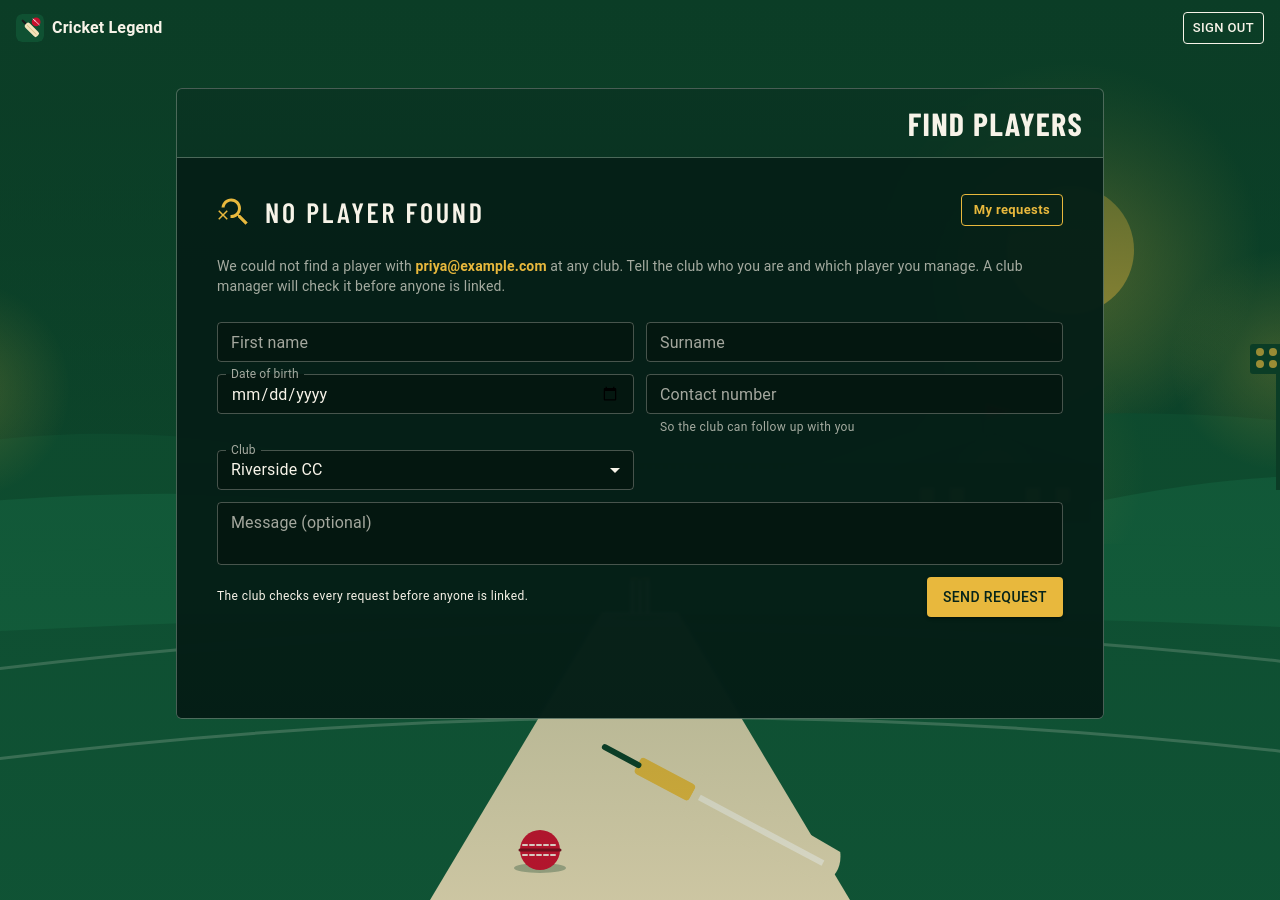
Test case: FindYourPlayersPage › No player found › shows the request form with a required contact number and full date of birth, and sends the request
Expected: the heading "No player found" is shown, [265, 197, 485, 227]
Expected: the element that starts with "We could not find a player with" is shown, [217, 256, 1063, 296]
Click the button "Send request".
click(995, 597)  # box [927, 577, 1063, 617]
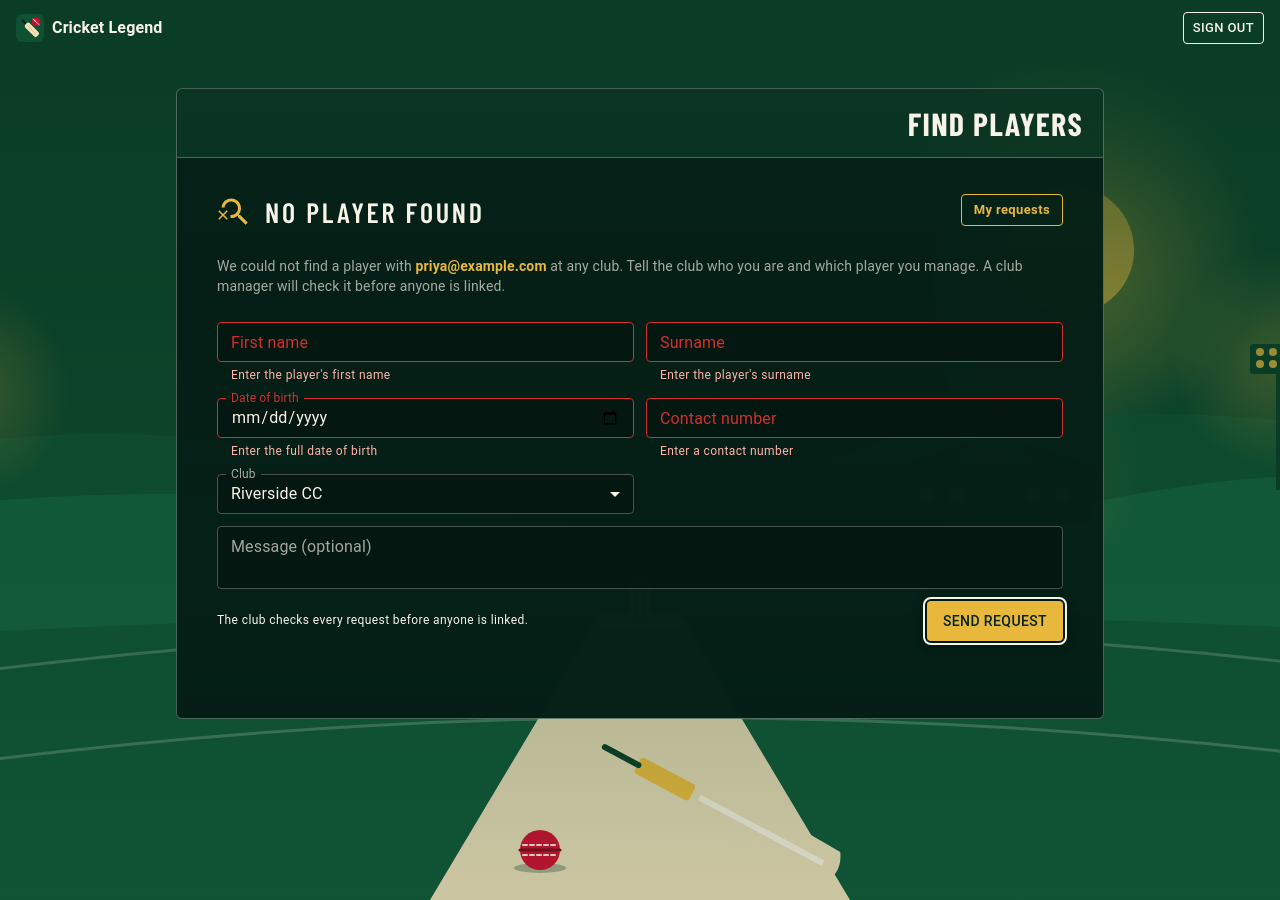
Now the text "Enter a contact number" is shown, box [660, 444, 793, 458]
Now the text "Enter the full date of birth" is shown, box [231, 444, 378, 458]
Type "Aman" into the field labelled "First name".
click(426, 342); type("Aman")  # box [217, 322, 634, 362]
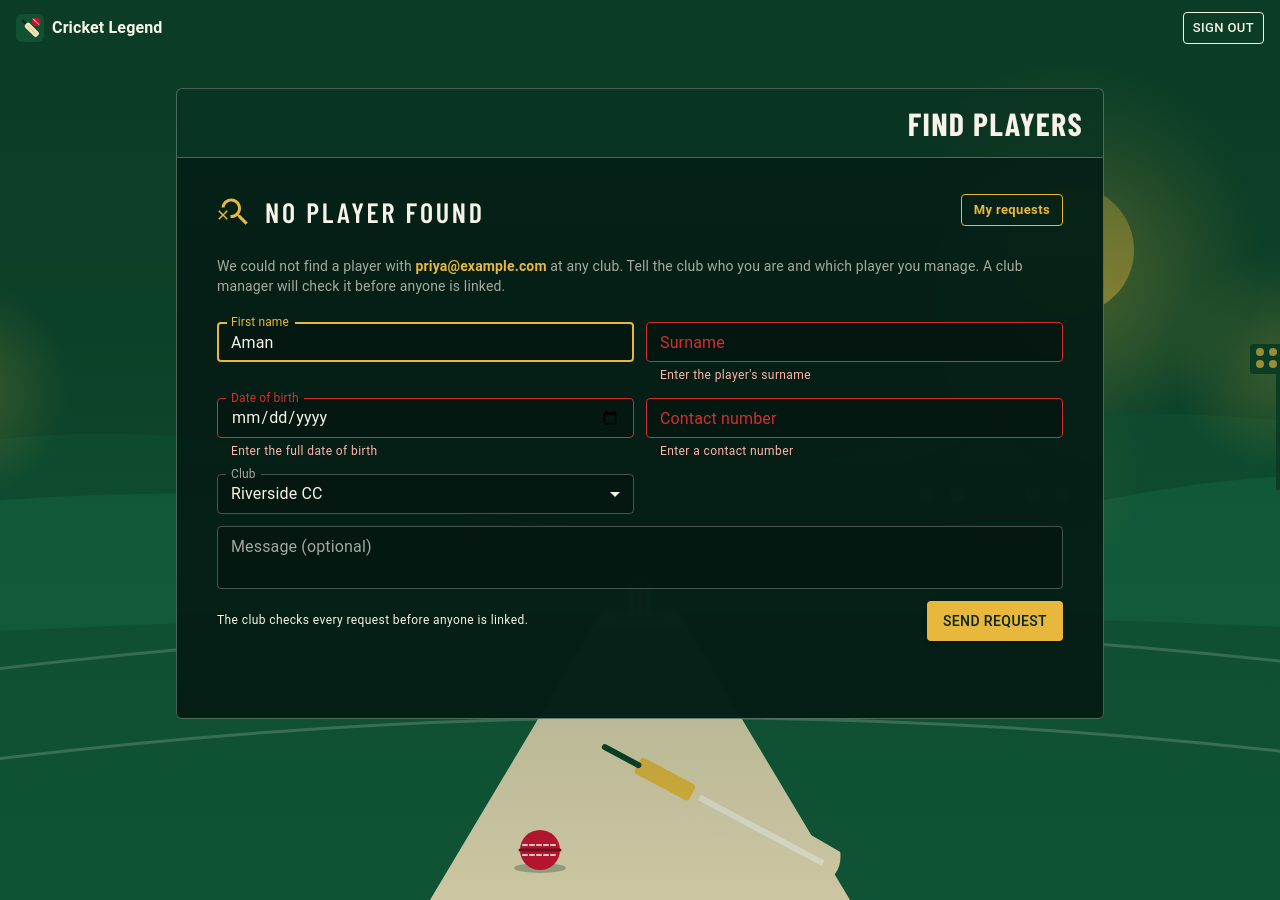
Type "Naidoo" into the field labelled "Surname".
click(854, 342); type("Naidoo")  # box [646, 322, 1063, 362]
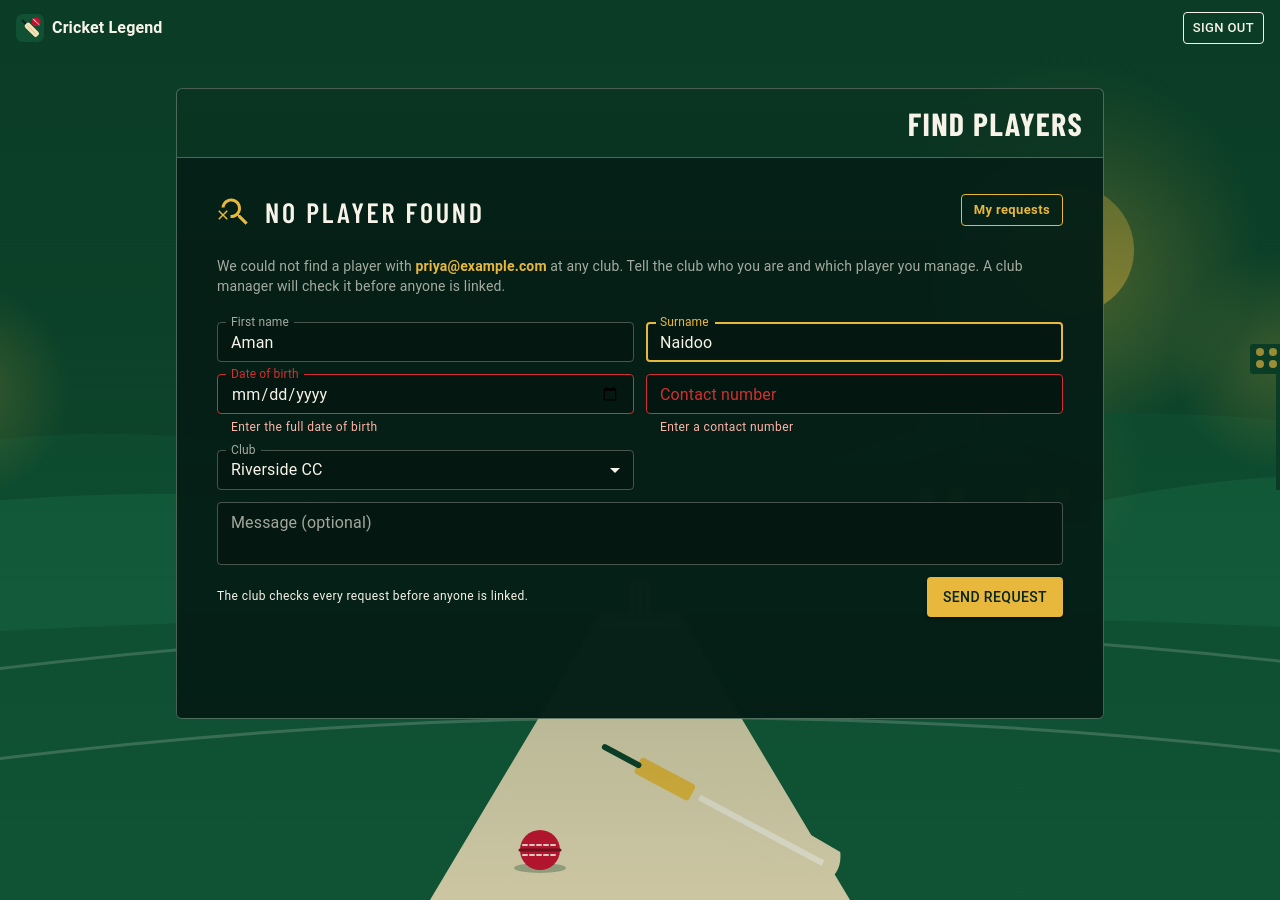
Type "2012-03-04" into the date field labelled "Date of birth".
click(426, 394); type("2012-03-04")  # box [217, 374, 634, 414]
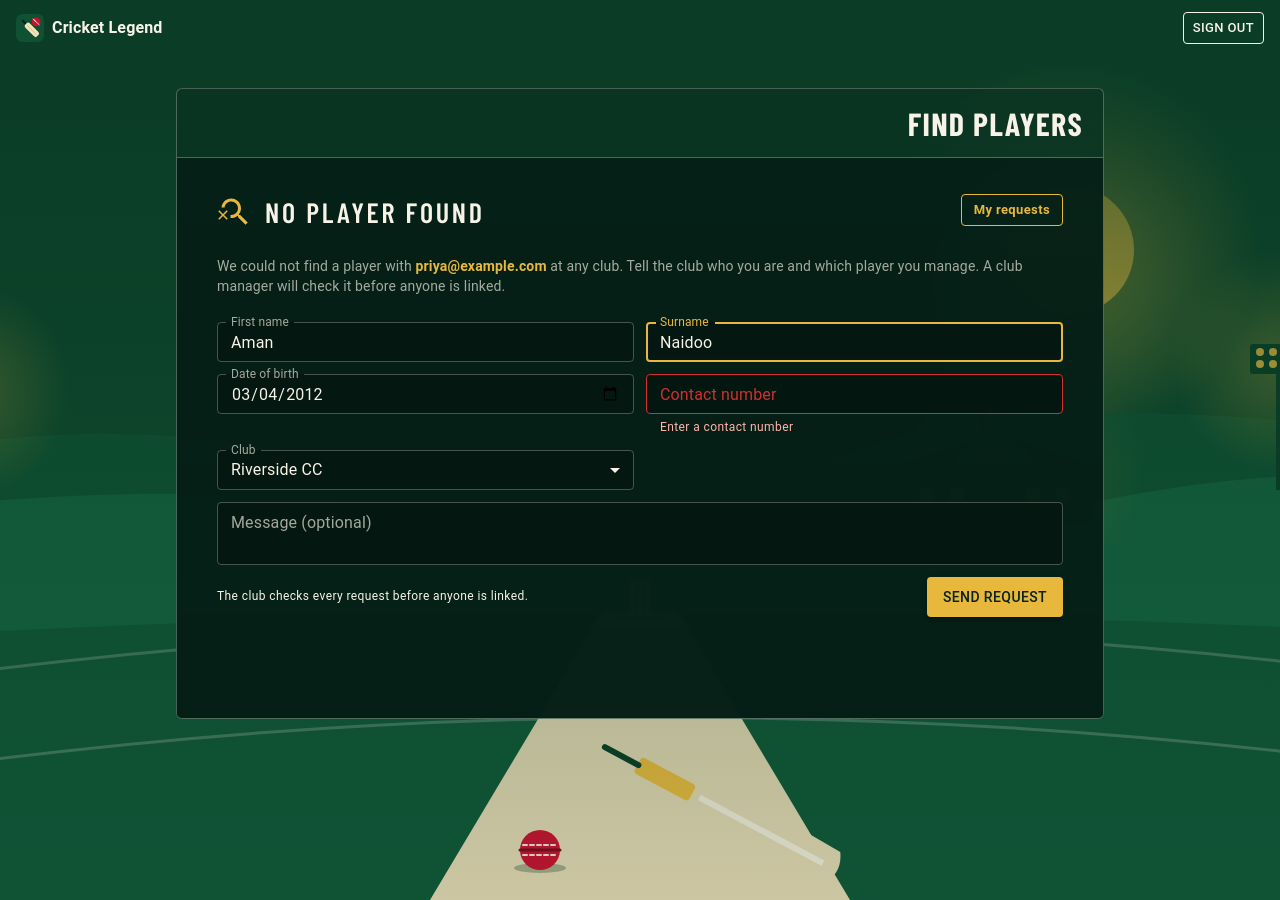
Type "082 555 0100" into the field labelled "Contact number".
click(854, 394); type("082 555 0100")  # box [646, 374, 1063, 414]
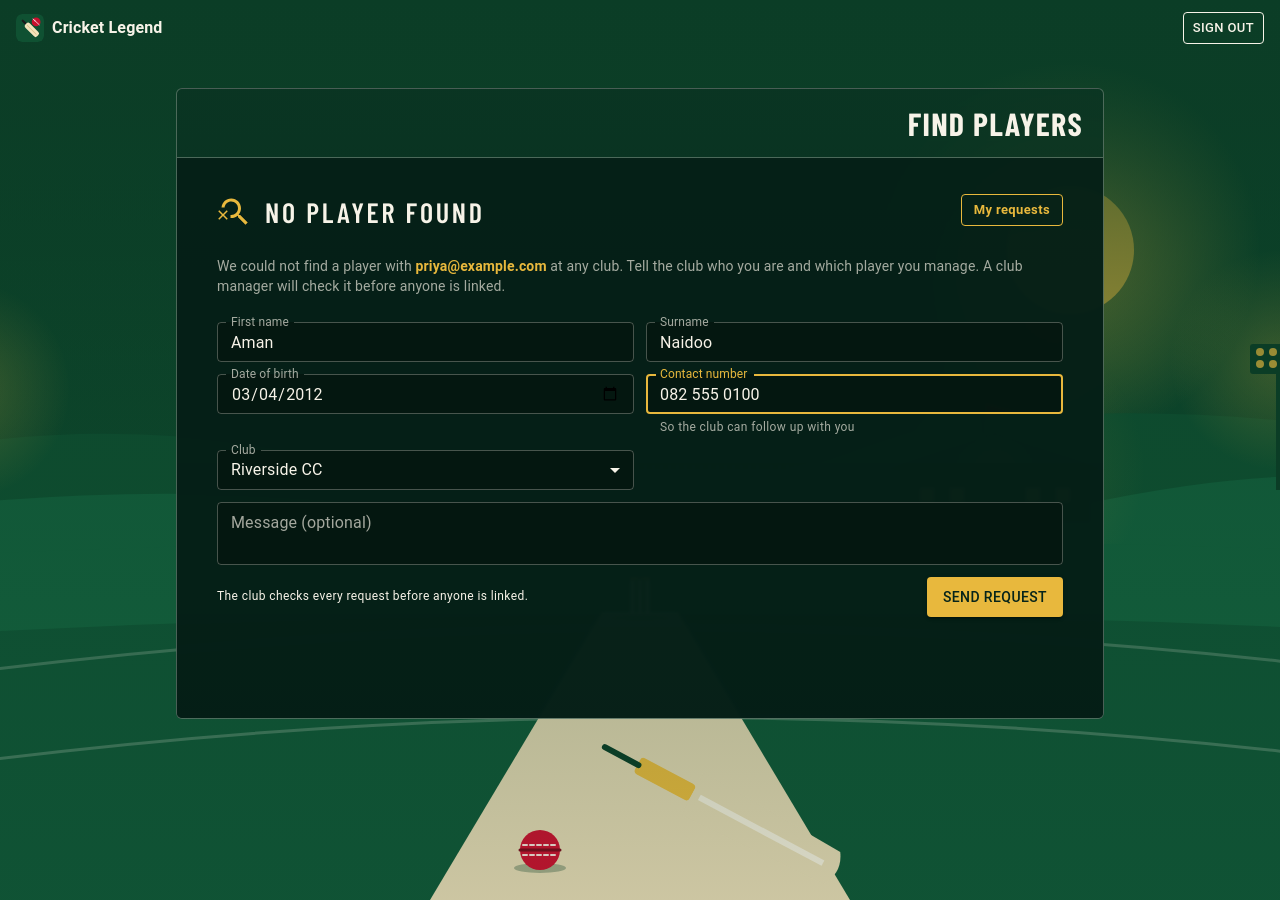
Click the button "Send request".
click(995, 597)  # box [927, 577, 1063, 617]
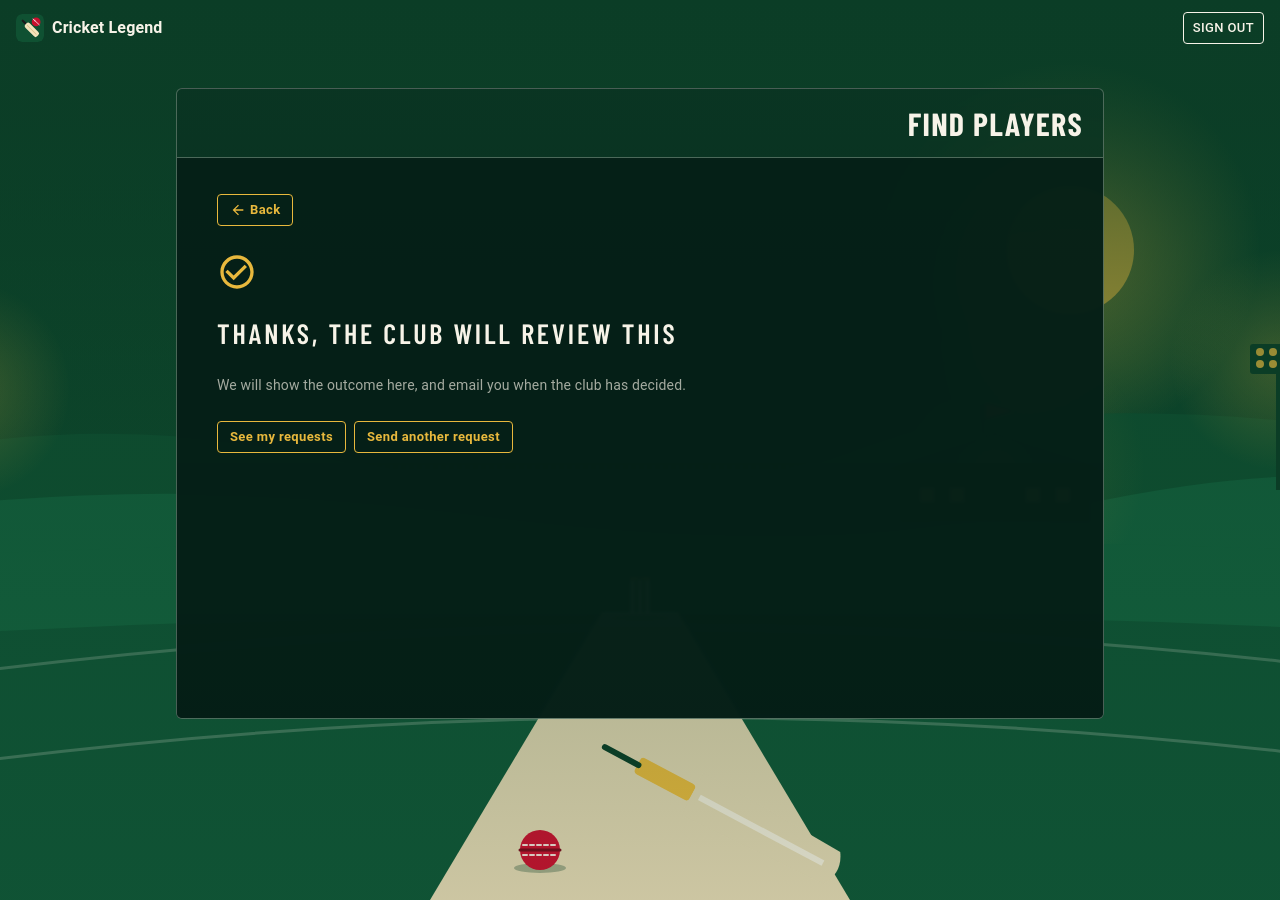
Now the heading "Thanks, the club will review this" is shown, box [217, 316, 677, 350]
